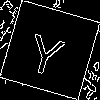Y: (24, 25, 69, 78)
